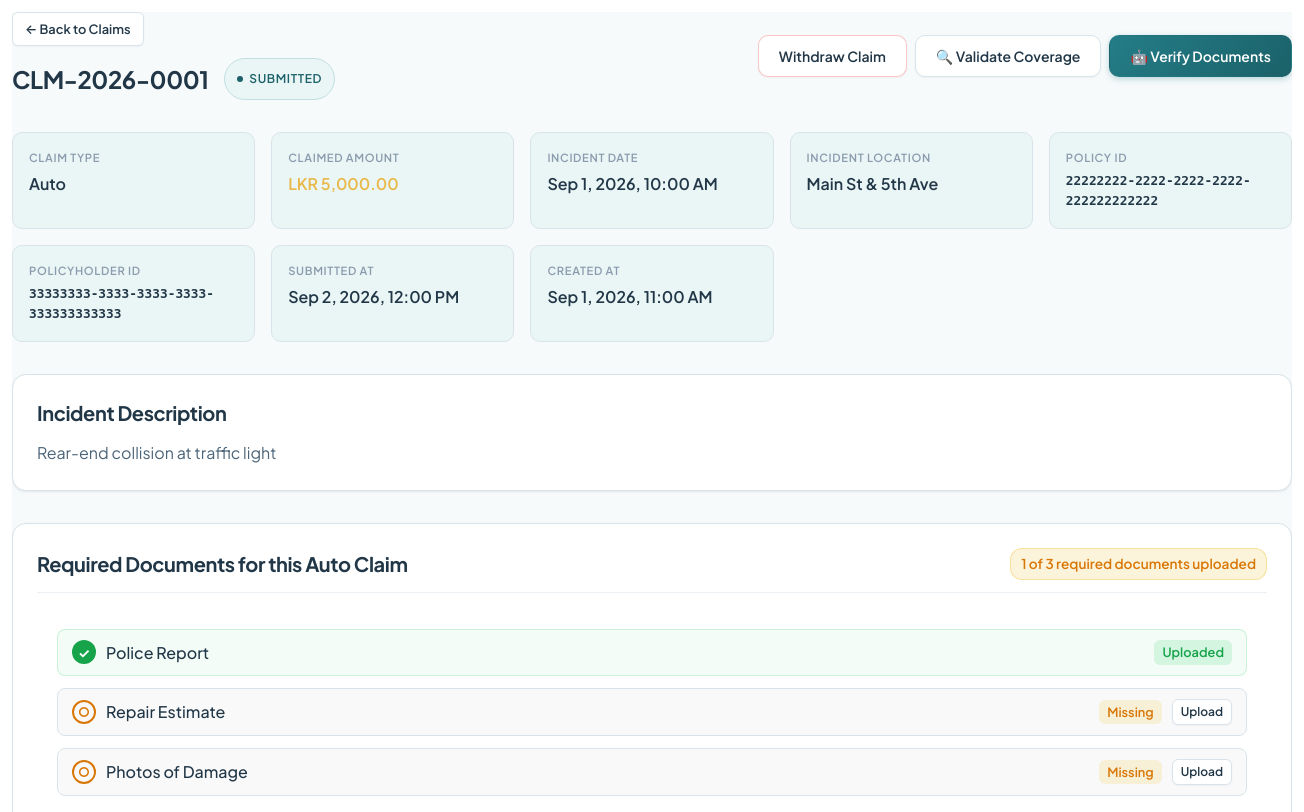
it: ClaimDetails Component Tests › 8. renders actionable guidance for Policyholder and hides staff Gemini analysis
The image size is (1304, 812).
Expected: the heading "CLM-2026-0001 Submitted" is shown, left=12, top=58, right=335, bottom=100
Click the button "🤖 Verify Documents" at (1201, 56), box left=1109, top=35, right=1292, bottom=77
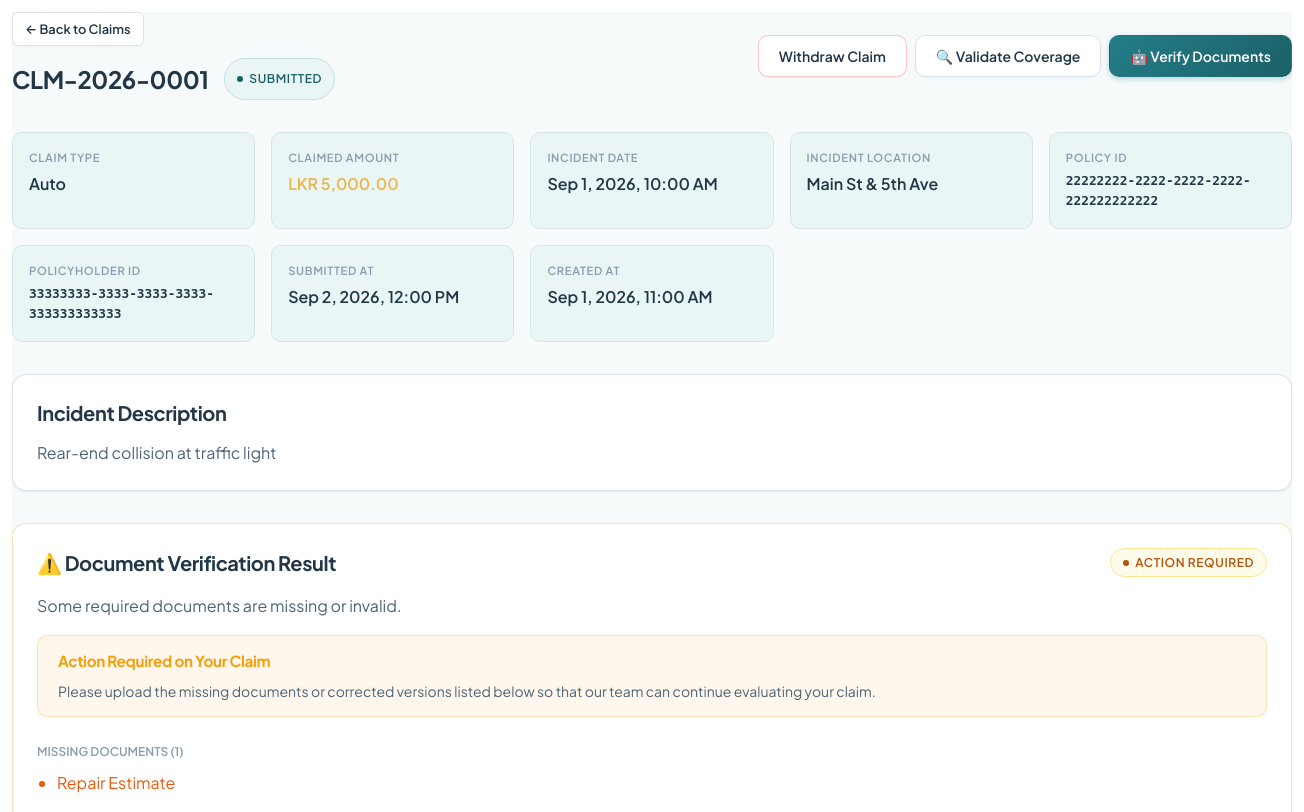
Expected: the heading "Action Required on Your Claim" is shown, left=58, top=651, right=270, bottom=670
Expected: the text "Please upload the missing documents" is shown, left=58, top=682, right=876, bottom=700
